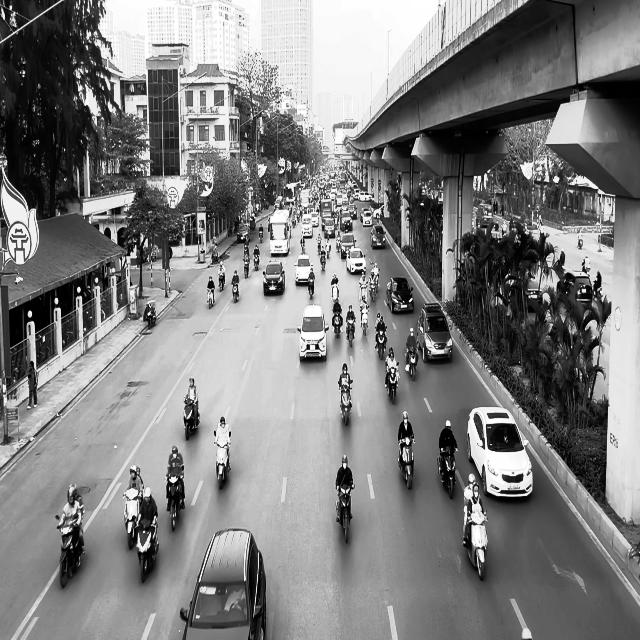car: (179, 528, 267, 640), (466, 406, 533, 499), (416, 302, 452, 362), (297, 304, 329, 361), (557, 270, 593, 304), (386, 276, 414, 314), (262, 260, 285, 295), (294, 253, 313, 284), (346, 248, 366, 274), (340, 232, 356, 258), (370, 224, 386, 249)
motorbike: (55, 514, 85, 588), (463, 509, 488, 580), (136, 516, 159, 582), (122, 488, 142, 550), (437, 446, 458, 499), (214, 430, 232, 490), (336, 484, 354, 544), (166, 472, 184, 532), (397, 438, 415, 490), (183, 395, 200, 440), (338, 380, 353, 426), (385, 362, 400, 404), (405, 346, 418, 381), (375, 325, 387, 359), (332, 306, 342, 338), (359, 304, 368, 336), (145, 301, 156, 327), (346, 318, 355, 346), (231, 280, 239, 302), (207, 287, 214, 309), (243, 257, 250, 278), (218, 272, 225, 291), (308, 276, 314, 298), (253, 252, 259, 270)
